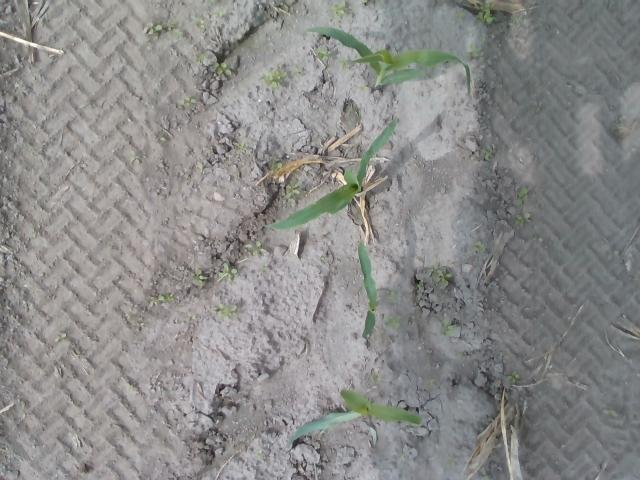Maize: (264, 115, 402, 230), (304, 24, 474, 96), (286, 386, 424, 450), (356, 238, 378, 339)
Weeds: (142, 20, 176, 36), (260, 69, 287, 88), (478, 0, 496, 25), (282, 183, 302, 205), (243, 239, 266, 258), (218, 260, 237, 280), (150, 292, 178, 305), (212, 302, 236, 317), (465, 38, 481, 58), (382, 314, 401, 329), (441, 319, 456, 338), (434, 269, 450, 285), (514, 188, 530, 204), (178, 96, 197, 108), (214, 64, 233, 76), (479, 146, 494, 161), (192, 270, 206, 286), (331, 1, 346, 15), (506, 370, 521, 384), (316, 48, 332, 61), (472, 240, 486, 253), (128, 149, 142, 160), (270, 160, 284, 169), (237, 142, 249, 152), (195, 52, 207, 62), (54, 332, 66, 342), (515, 212, 525, 224), (194, 18, 204, 28), (385, 289, 395, 299), (339, 57, 348, 66), (260, 263, 268, 272), (216, 10, 225, 18), (126, 384, 134, 391), (207, 0, 214, 5)
